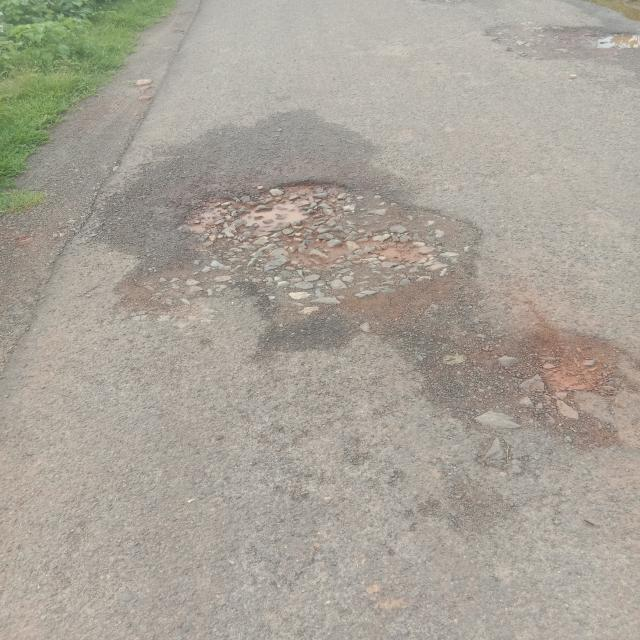potholes: (187, 177, 488, 322), (527, 333, 639, 396), (483, 20, 640, 64)
